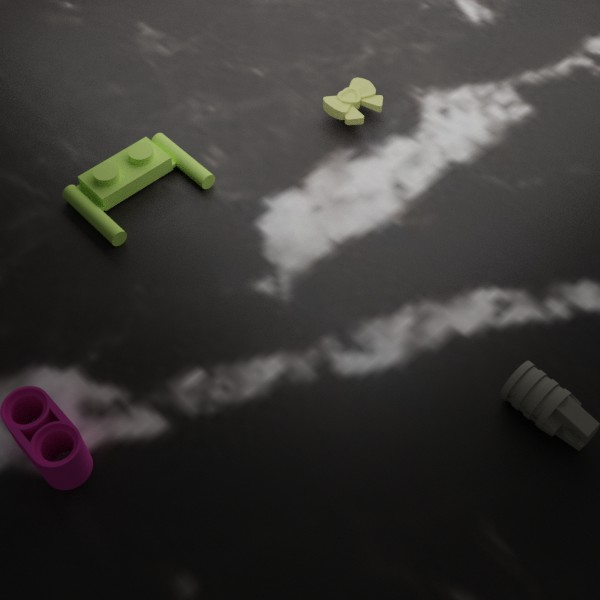lego: (62, 132, 215, 246), (0, 385, 92, 490), (499, 360, 600, 450), (323, 77, 382, 125)
